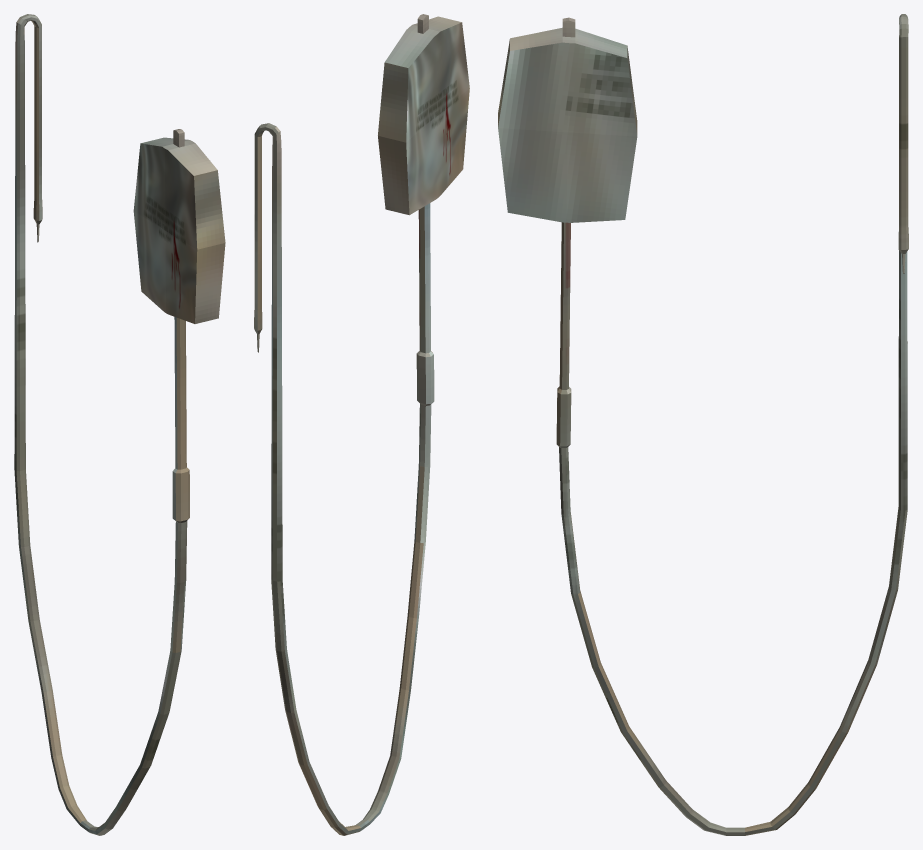
The model's file is SM_IVpack.fbx.
3 views of the same model, side by side, from view 1: azimuth 30°, elevation 25°; view 2: azimuth 150°, elevation 25°; view 3: azimuth 270°, elevation 25° (orthographic). The views are drawn at different scales.
Parts seen in each view (by area): view 1: IVpack; view 2: IVpack; view 3: IVpack.
Part boxes in pixels (x1=…): IVpack: x1=14, y1=14, x2=225, y2=835; IVpack: x1=254, y1=14, x2=469, y2=835; IVpack: x1=498, y1=14, x2=908, y2=835.
Bounding box in the file's own units: 4.64 × 95.79 × 43.11.
